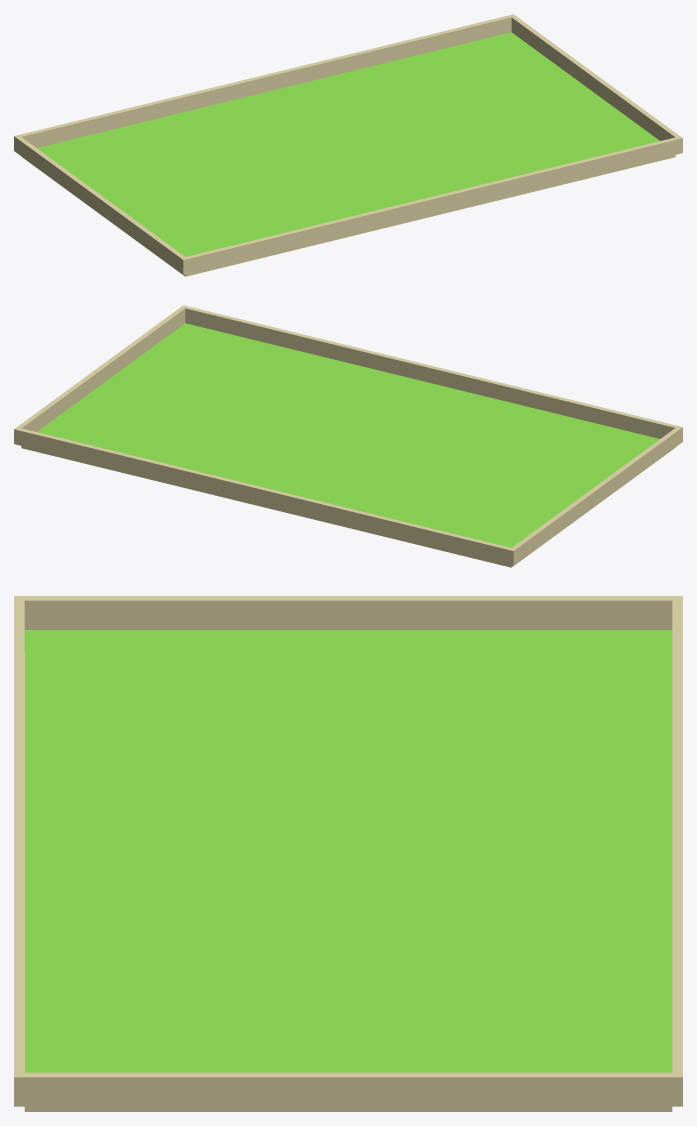
Rendered from study_course_1.fbx.
3 renders of one model, top to bottom at view 1: azimuth 30°, elevation 25°; view 2: azimuth 150°, elevation 25°; view 3: azimuth 270°, elevation 25°, orthographic. The views are drawn at different scales.
Parts seen in each view (by area): view 1: t1.004, t1_walls.003; view 2: t1.004, t1_walls.003; view 3: t1.004, t1_walls.003.
Boxes of the visible parts, left/top/right/bottom form: t1.004: left=21, top=32, right=675, bottom=276; t1_walls.003: left=14, top=14, right=682, bottom=274; t1.004: left=21, top=323, right=675, bottom=567; t1_walls.003: left=14, top=305, right=682, bottom=565; t1.004: left=24, top=630, right=672, bottom=1111; t1_walls.003: left=14, top=596, right=682, bottom=1106.
Size of the model in its own units: 528 by 20.01 by 310.
